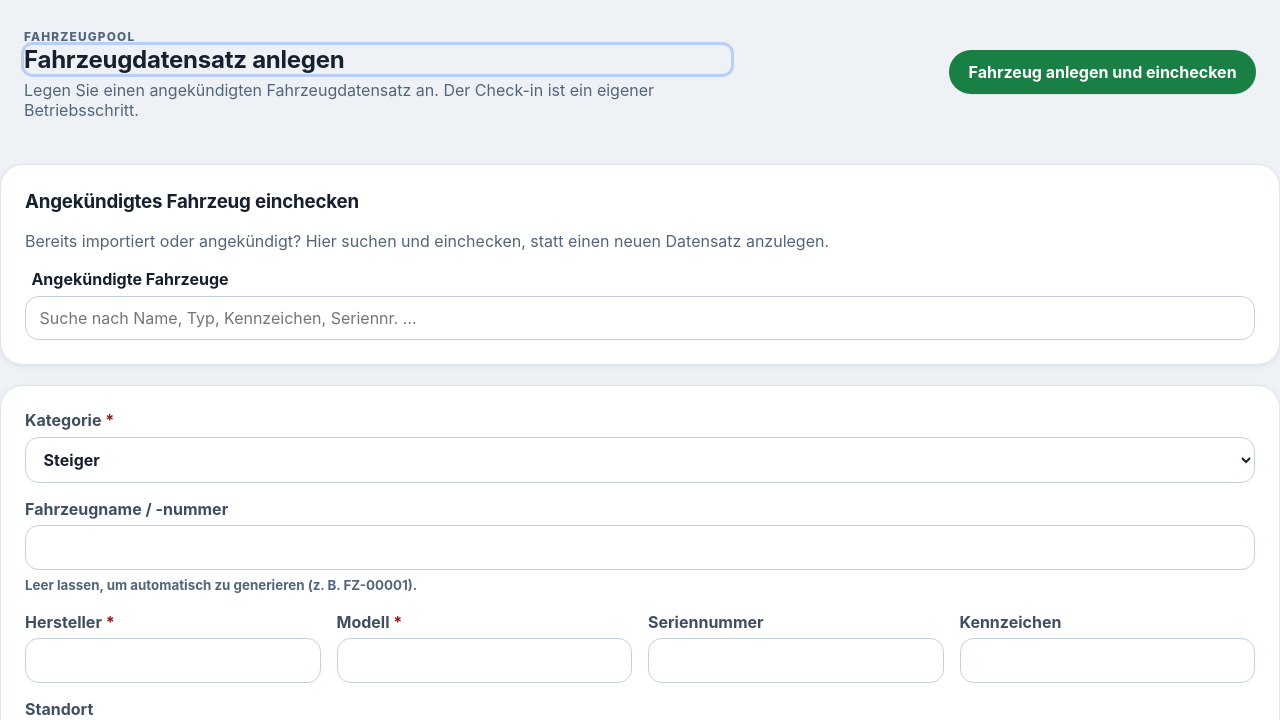
Test case: AddVehiclePage › creates only an announced record and offers a preselected check-in
The width and height of the screenshot is (1280, 720).
Check: the heading "Fahrzeugdatensatz anlegen" is shown, box x1=24 y1=45 x2=731 y2=74
Type "Acme" into the field labelled "Hersteller".
click(173, 661); type("Acme")  # box x1=25 y1=638 x2=320 y2=683
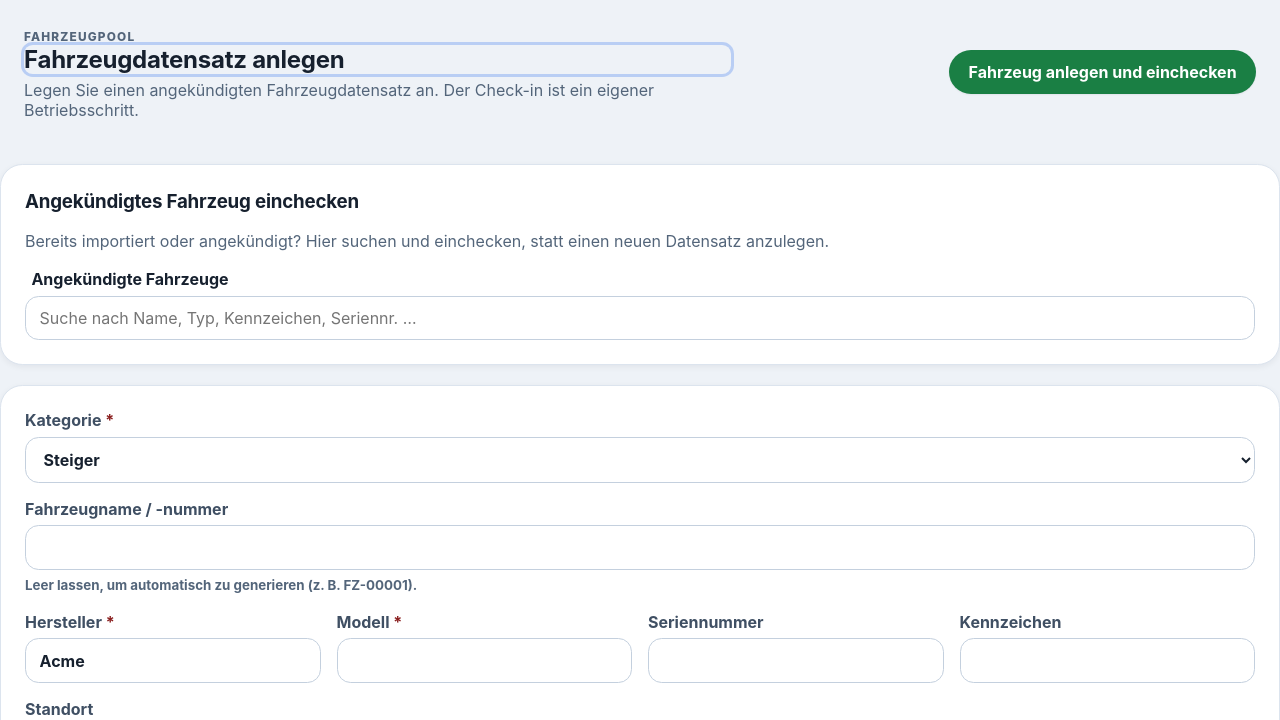
Type "TH-Z" into the field labelled "Modell".
click(484, 661); type("TH-Z")  # box x1=336 y1=638 x2=632 y2=683
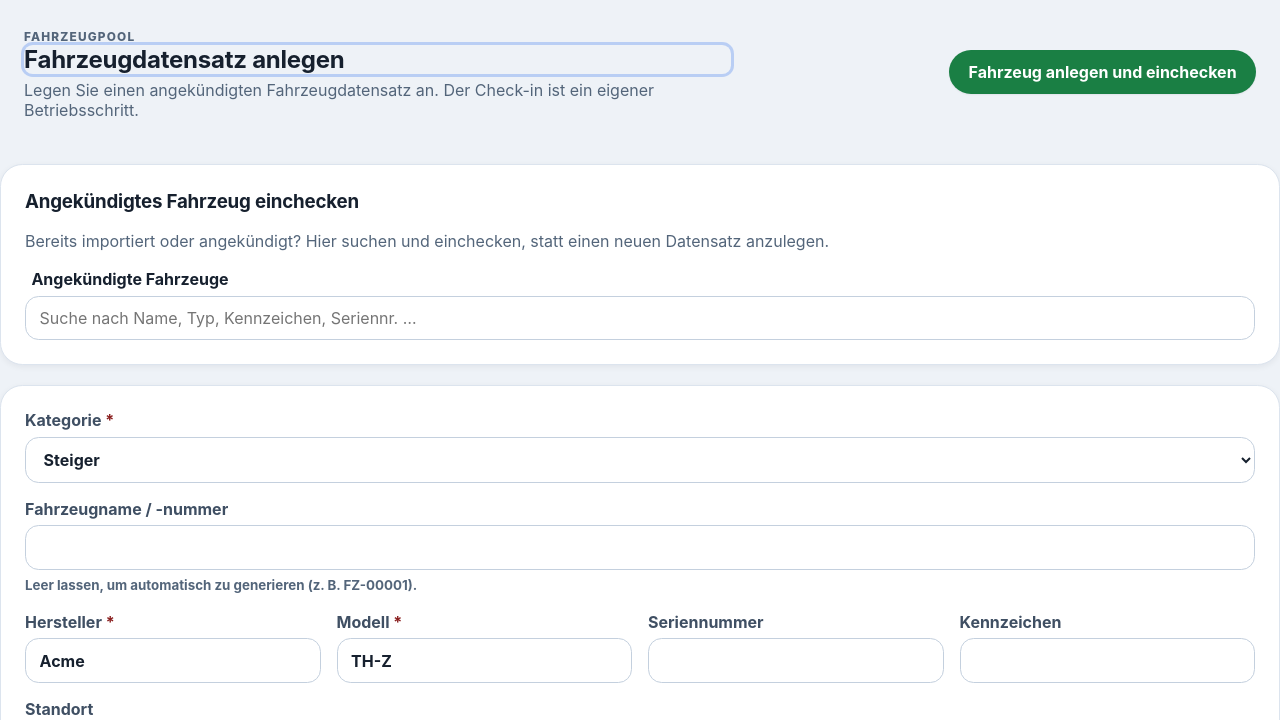
Type "SN-123" into the field labelled "Seriennummer".
click(796, 661); type("SN-123")  # box x1=648 y1=638 x2=944 y2=683
(page scrolled)
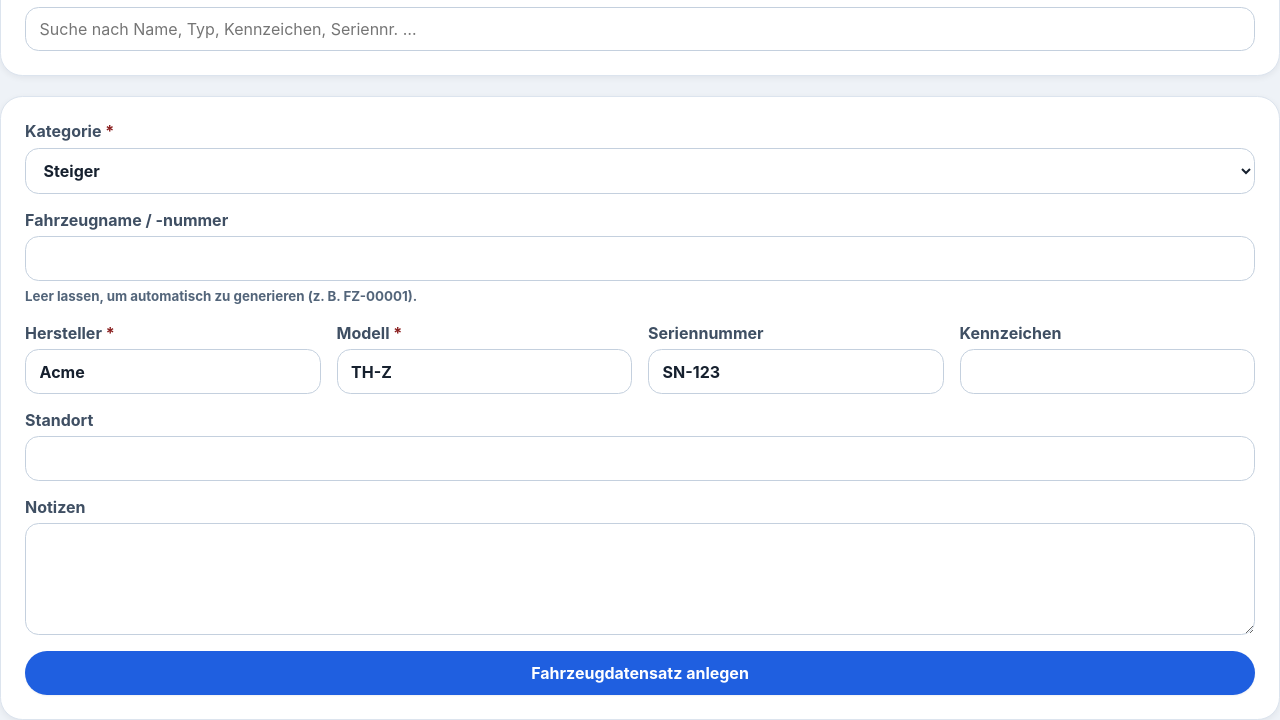
Click the button "Fahrzeugdatensatz anlegen".
click(640, 673)  # box x1=25 y1=651 x2=1255 y2=695
(page scrolled)
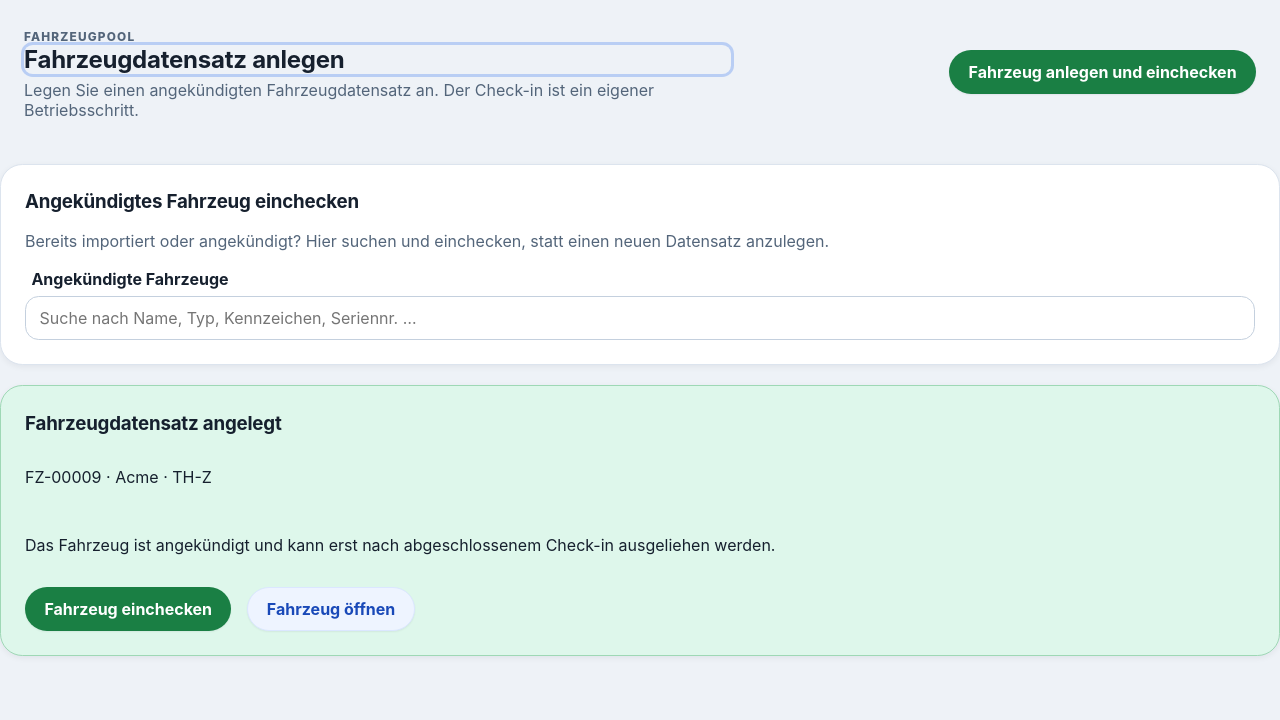
Check: the heading "Fahrzeugdatensatz angelegt" is shown, box x1=25 y1=412 x2=282 y2=435
